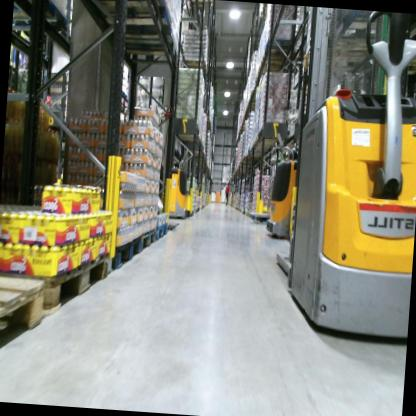pallet: (0, 0, 76, 361), (0, 240, 112, 318), (85, 0, 177, 40), (104, 32, 184, 68), (108, 228, 142, 270), (181, 54, 211, 77), (138, 224, 155, 252), (252, 211, 276, 228), (186, 0, 215, 10), (156, 222, 171, 241), (256, 125, 270, 142), (255, 135, 271, 145), (253, 212, 257, 221), (248, 212, 252, 220)
pallet_truck: (254, 7, 416, 351), (257, 123, 320, 251), (146, 121, 196, 221)
